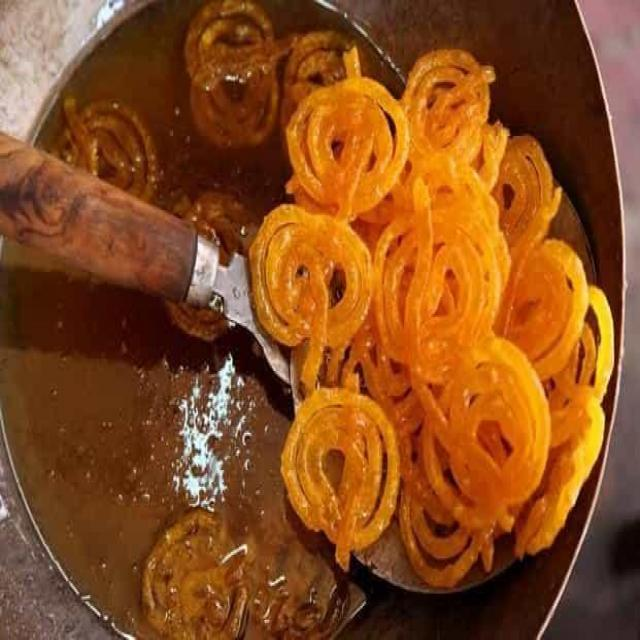jalebi: (274, 30, 608, 565), (126, 516, 348, 640), (175, 20, 292, 145), (58, 107, 165, 190)
